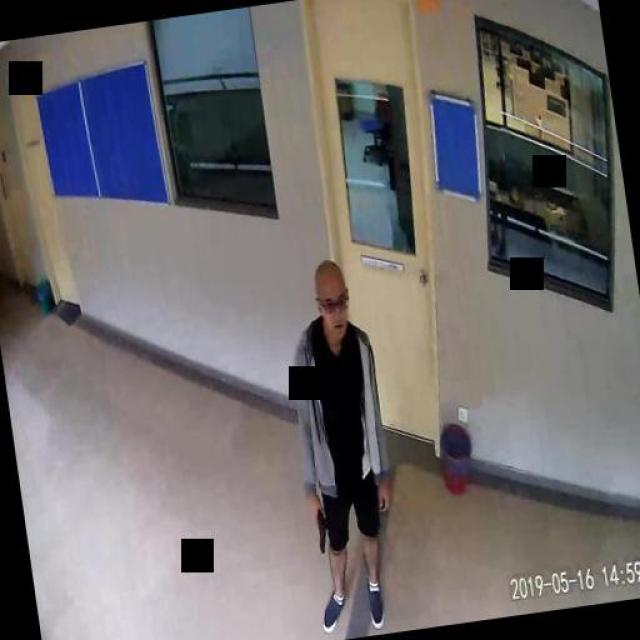gun: (309, 504, 329, 554)
